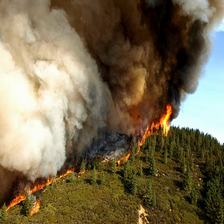fire: (101, 70, 180, 167)
